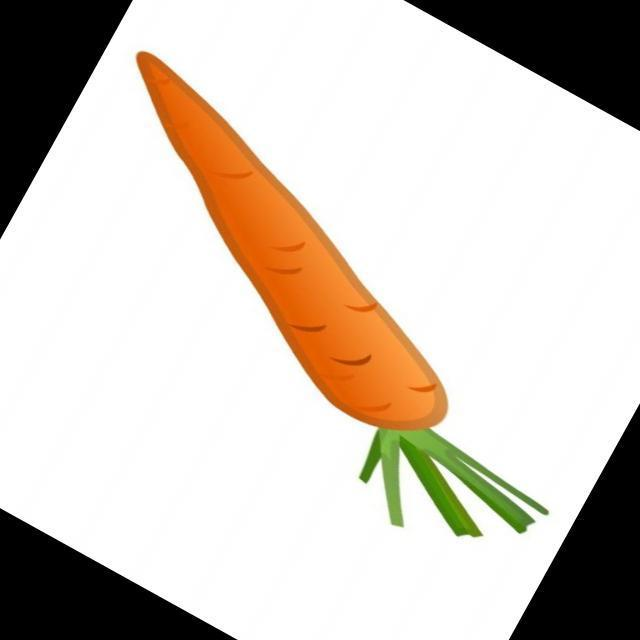Carrot: (138, 52, 548, 536)
